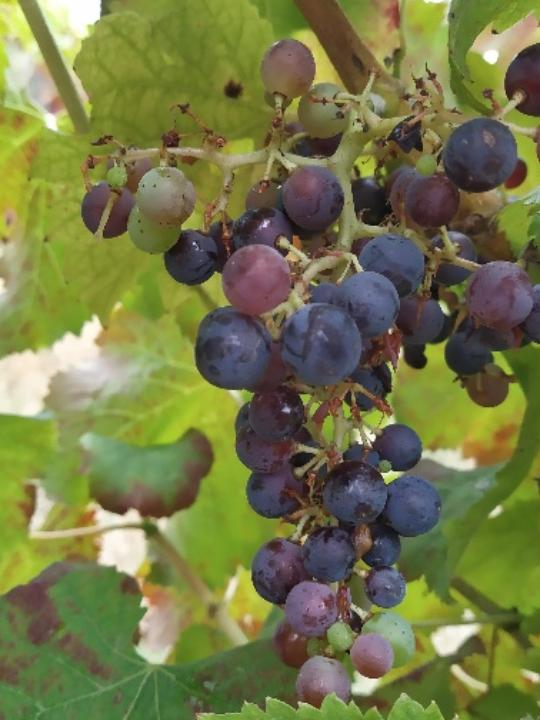grape: (74, 34, 540, 704)
